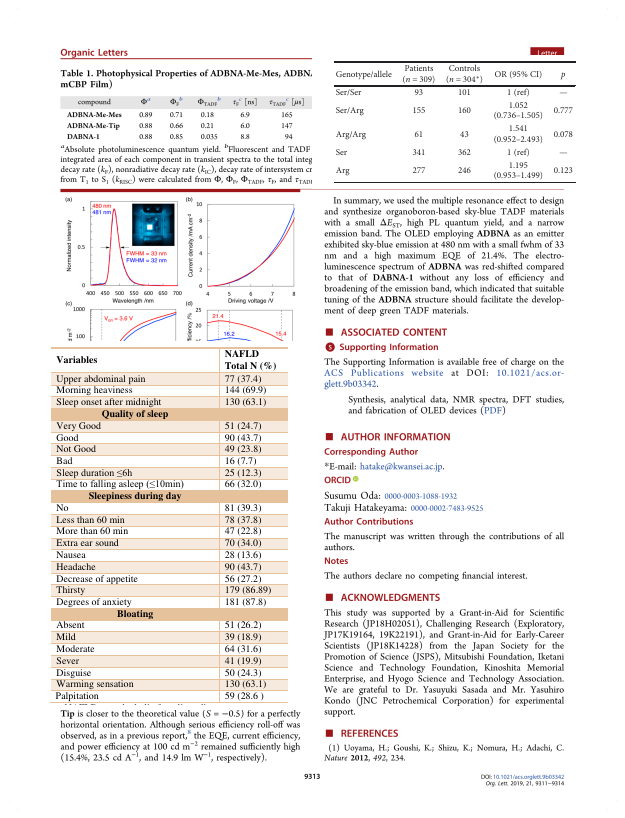borderless: (48, 346, 287, 704), (334, 60, 576, 183)
cell: (55, 477, 184, 492), (55, 396, 162, 409), (223, 348, 277, 373), (87, 490, 182, 503), (55, 373, 146, 386), (55, 466, 133, 481), (55, 572, 138, 586), (492, 101, 543, 122), (492, 124, 543, 145), (492, 161, 543, 182), (55, 678, 134, 691), (55, 384, 133, 397), (55, 596, 132, 609), (55, 525, 128, 538), (55, 514, 125, 527), (100, 408, 169, 421), (55, 537, 119, 550), (445, 64, 484, 85), (401, 64, 436, 85), (334, 69, 392, 80), (223, 584, 272, 597), (55, 420, 101, 433), (54, 690, 99, 703), (223, 384, 267, 397), (223, 396, 267, 409), (223, 596, 267, 609), (223, 678, 267, 691), (55, 354, 98, 367), (493, 69, 543, 80), (223, 431, 262, 445), (223, 572, 262, 586), (115, 607, 154, 621), (223, 666, 262, 680), (55, 443, 96, 456), (55, 561, 96, 574), (223, 690, 264, 703), (55, 643, 95, 656), (55, 666, 92, 680), (223, 373, 262, 386), (223, 420, 262, 433), (223, 443, 262, 456), (223, 467, 262, 480), (223, 478, 262, 491), (223, 502, 262, 515), (223, 514, 262, 527), (223, 525, 262, 538), (223, 537, 262, 550), (223, 549, 262, 562), (223, 561, 262, 574), (223, 619, 262, 632), (223, 631, 262, 644), (223, 643, 262, 656), (223, 655, 262, 668), (223, 455, 257, 468), (55, 549, 86, 562), (55, 584, 86, 597), (55, 619, 85, 632), (334, 129, 367, 140), (55, 431, 79, 445), (55, 655, 79, 668), (334, 106, 364, 116), (334, 88, 362, 98), (55, 631, 76, 644), (506, 88, 530, 98), (506, 148, 530, 158), (55, 455, 73, 468), (552, 129, 573, 140), (552, 166, 573, 177), (552, 106, 573, 116), (55, 502, 69, 515), (334, 166, 350, 177), (411, 166, 426, 177), (457, 166, 472, 177), (457, 88, 472, 98), (411, 106, 426, 116), (457, 106, 472, 116), (411, 148, 426, 158), (457, 148, 472, 158), (334, 148, 348, 158), (413, 129, 424, 140), (413, 88, 424, 98), (459, 129, 469, 140), (560, 71, 566, 80), (558, 92, 568, 96), (558, 152, 568, 156)
